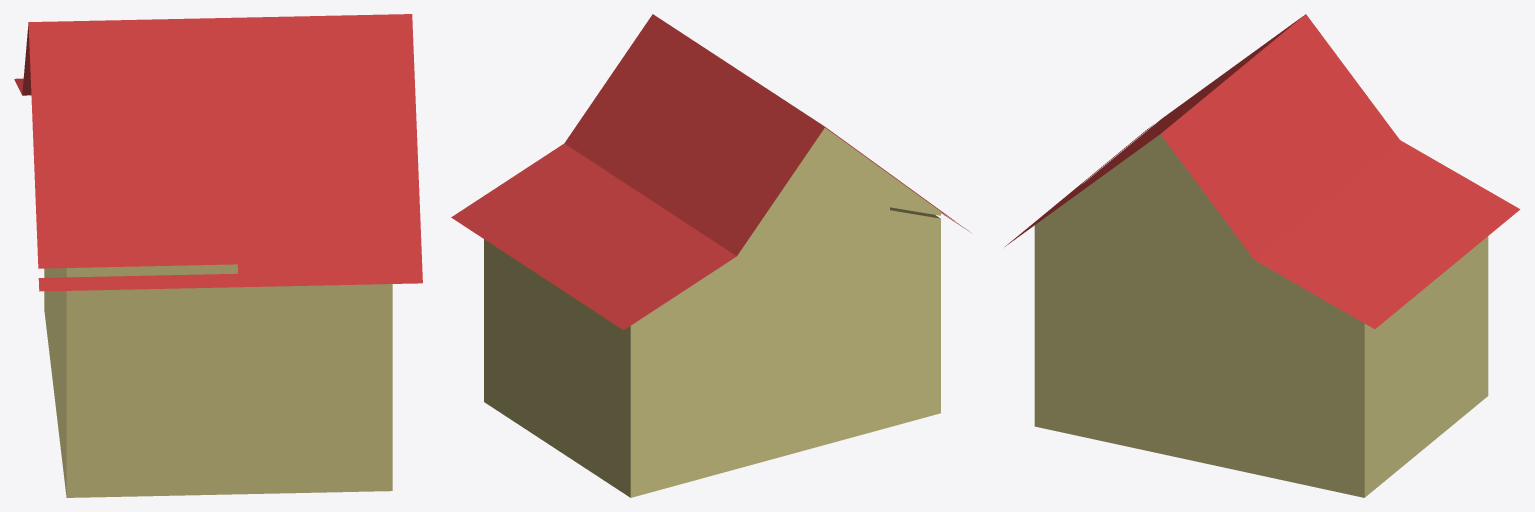
The picture shows the model from 3 angles, left to right: view 1: azimuth 30°, elevation 25°; view 2: azimuth 150°, elevation 25°; view 3: azimuth 270°, elevation 25°; orthographic projection. The views are drawn at different scales.
Bounding box in the file's own units: 14.87 × 16.22 × 11.44.
